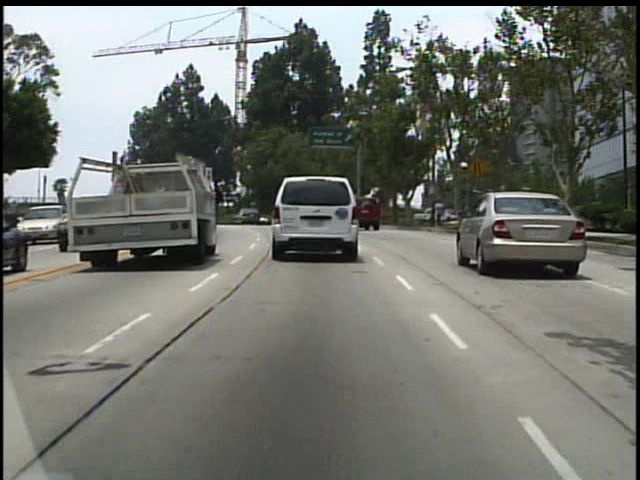person: (432, 195, 448, 232)
